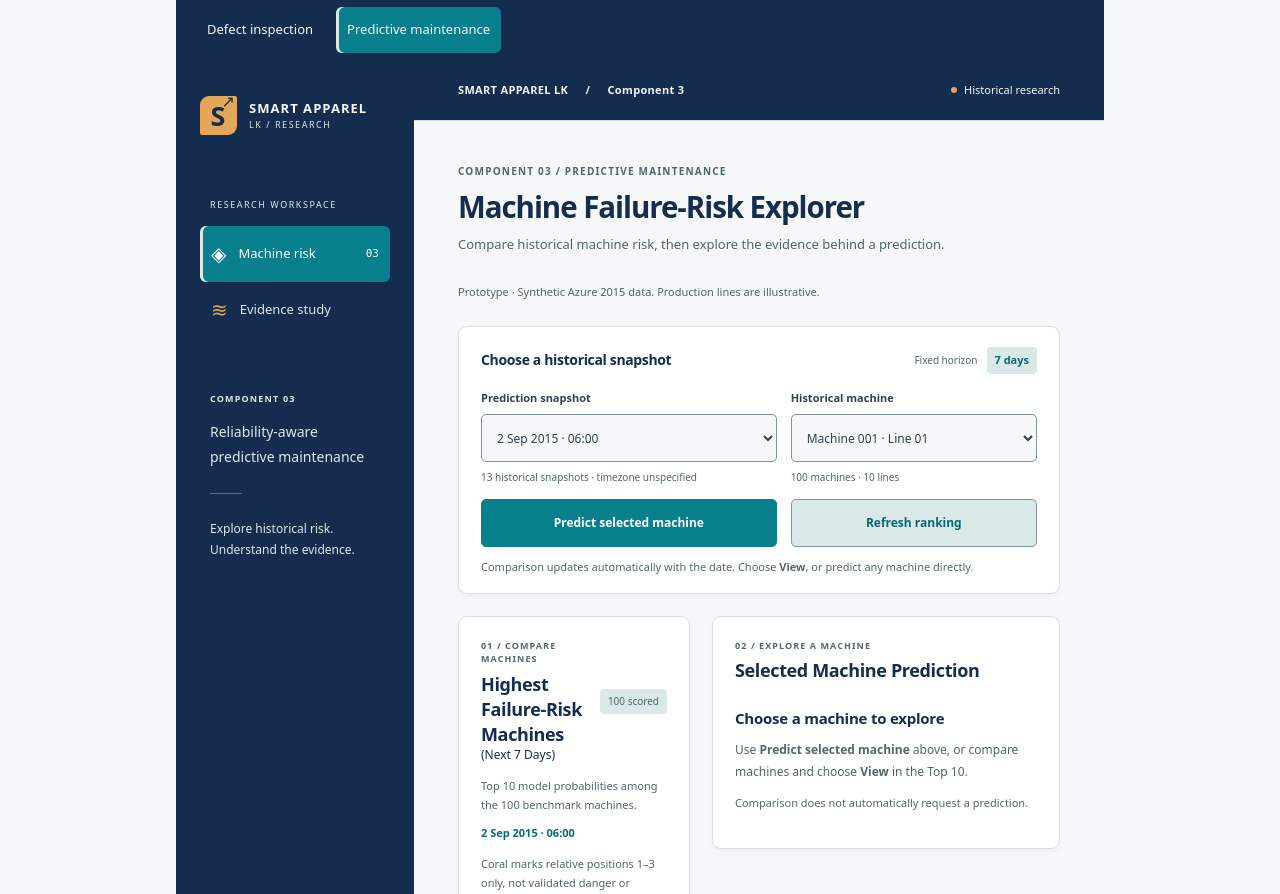
Test: Component 3 historical prediction page › displays null H/R history without substituting zero
What coordinates should you click on to do the following:
click the button "Predict selected machine"
I would click on:
 (629, 523)
Its box is x1=481 y1=499 x2=777 y2=547.
(page scrolled)
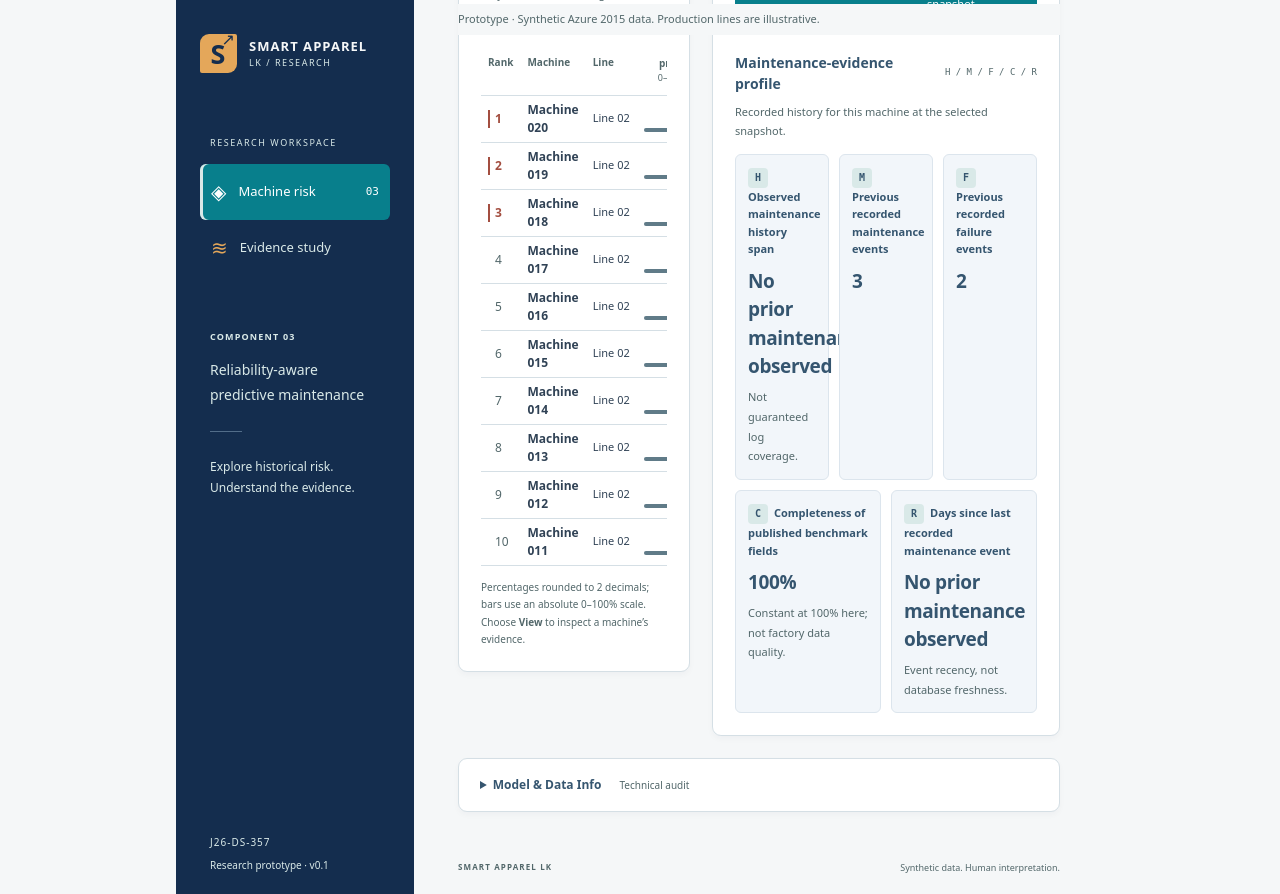
Check: the text with test id "evidence-H" reads "No prior maintenance observed", box x1=748 y1=268 x2=869 y2=379
Check: the text with test id "evidence-R" reads "No prior maintenance observed", box x1=904 y1=569 x2=1025 y2=652
